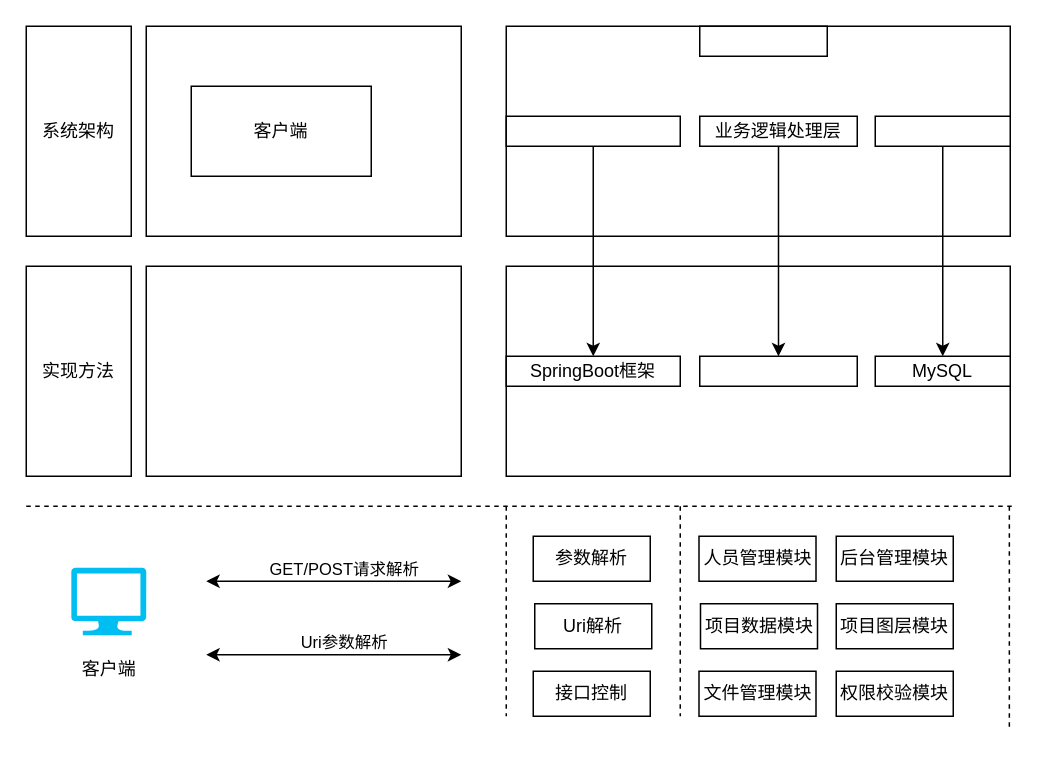
This 1044x759 diagram has some shape labels left out. The centre of each missing label's shape, as x and y in pixels:
Java开发模块: (777,370)
WinForm C#开发模块: (303,370)
后台处理模块: (762,40)
控制层: (592,130)
数据访问层: (942,130)
